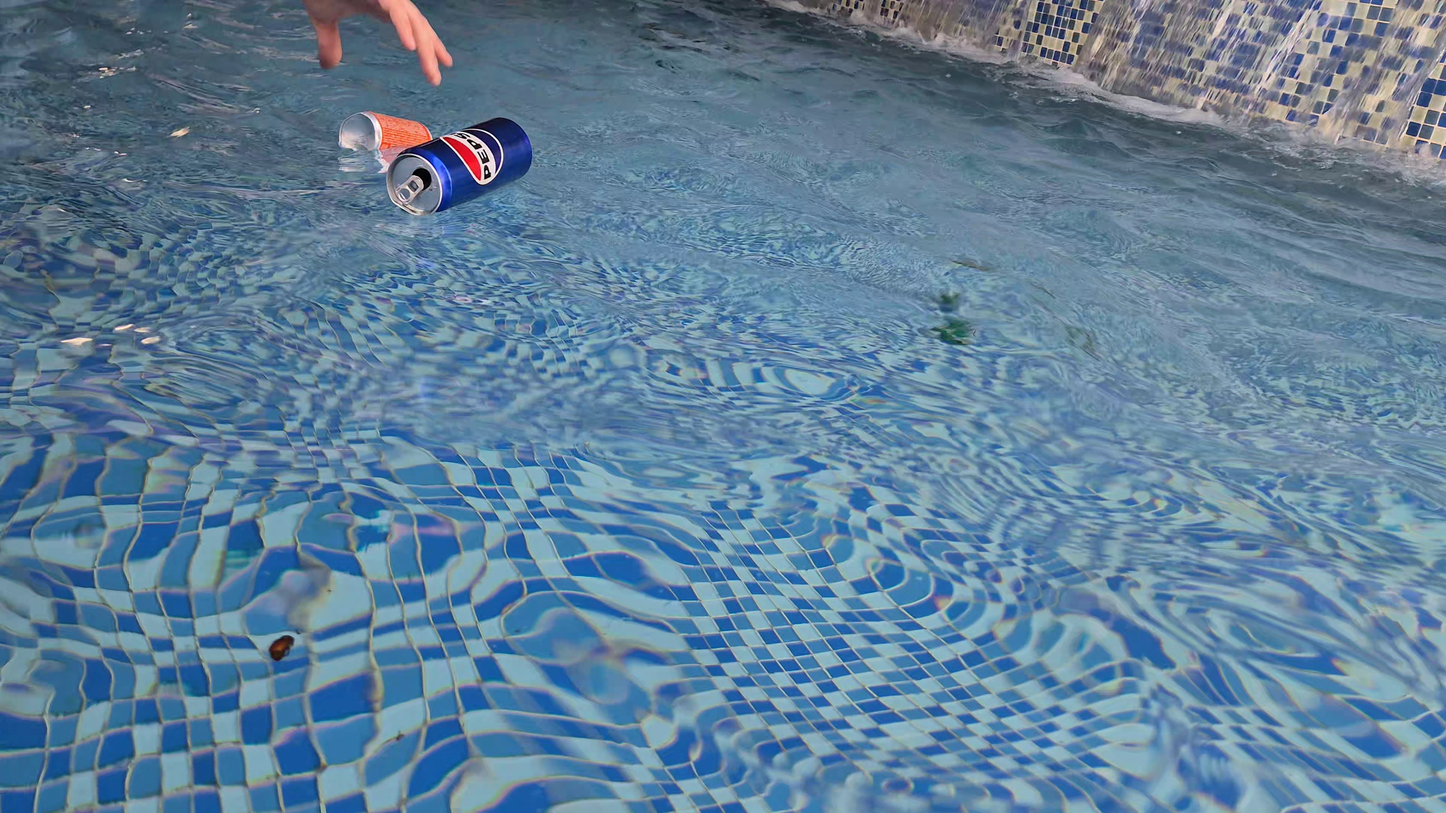debris: (383, 111, 535, 218), (334, 109, 434, 164)
